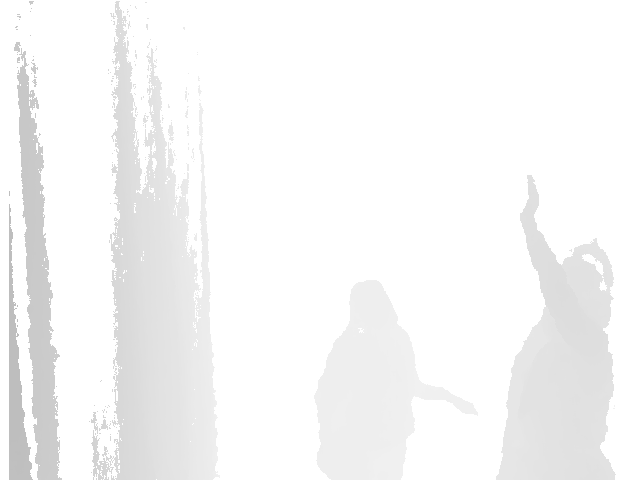hand: (519, 176, 540, 226)
head: (543, 257, 609, 329), (348, 280, 397, 327)
person: (493, 176, 618, 480), (313, 280, 480, 480)
